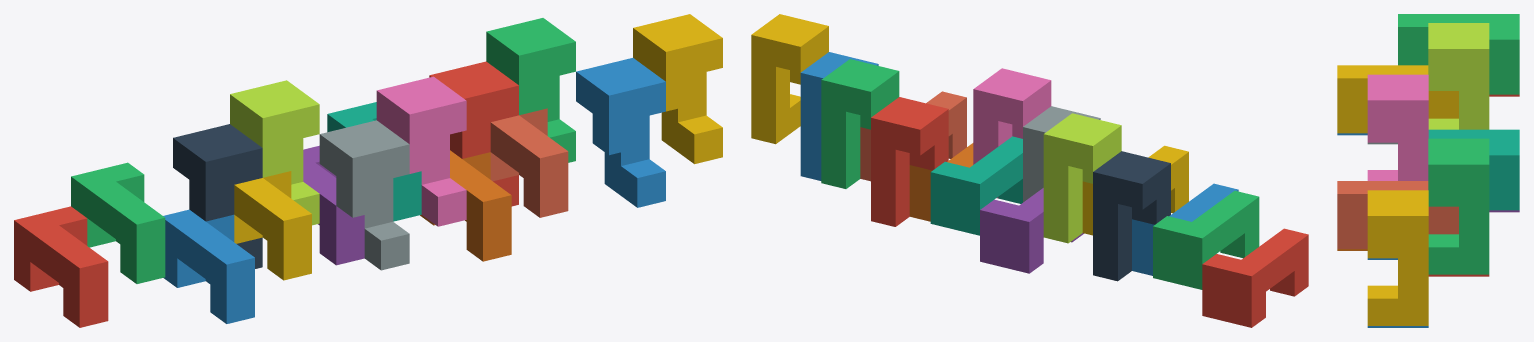
Rendered from tiling.obj.
3 views of the same model, side by side, from view 1: azimuth 30°, elevation 25°; view 2: azimuth 150°, elevation 25°; view 3: azimuth 270°, elevation 25° (orthographic). The views are drawn at different scales.
Parts seen in each view (by area): view 1: copy_2_domain_6, copy_2_domain_8, copy_2_domain_2, copy_2_domain_4, copy_1_domain_1, copy_1_domain_3, copy_1_domain_2, copy_2_domain_3, copy_2_domain_7, copy_2_domain_1, copy_1_domain_8, copy_1_domain_4 (+4 smaller); view 2: copy_2_domain_1, copy_2_domain_5, copy_1_domain_1, copy_2_domain_8, copy_2_domain_3, copy_2_domain_7, copy_1_domain_3, copy_1_domain_7, copy_2_domain_4, copy_1_domain_5, copy_2_domain_6, copy_1_domain_2 (+4 smaller); view 3: copy_2_domain_7, copy_2_domain_8, copy_2_domain_3, copy_2_domain_4, copy_1_domain_3, copy_1_domain_4, copy_1_domain_8, copy_1_domain_7, copy_2_domain_6, copy_2_domain_5.
Boxes of the visible parts, x1,y1,x2,y2 form: copy_2_domain_6: (576,58,665,207); copy_2_domain_8: (633,14,722,164); copy_2_domain_2: (319,120,409,270); copy_2_domain_4: (376,76,466,226); copy_1_domain_1: (14,206,108,327); copy_1_domain_3: (71,162,165,283); copy_1_domain_2: (163,209,254,323); copy_2_domain_3: (230,80,319,225); copy_2_domain_7: (486,18,575,162); copy_2_domain_1: (173,124,262,268); copy_1_domain_8: (490,108,568,217); copy_1_domain_4: (234,171,311,280); copy_2_domain_1: (1093,151,1170,281); copy_2_domain_5: (871,97,948,226); copy_1_domain_1: (1202,228,1308,327); copy_2_domain_8: (751,14,828,144); copy_2_domain_3: (1043,113,1121,243); copy_2_domain_7: (821,59,899,188); copy_1_domain_3: (1153,190,1259,289); copy_1_domain_7: (930,136,1022,235); copy_2_domain_4: (973,68,1051,198); copy_1_domain_5: (980,188,1083,273); copy_2_domain_6: (800,52,878,180); copy_1_domain_2: (1132,183,1238,275); copy_2_domain_7: (1428,138,1489,274); copy_2_domain_8: (1367,190,1428,325); copy_2_domain_3: (1428,23,1489,129); copy_2_domain_4: (1367,74,1428,180); copy_1_domain_3: (1398,14,1519,94); copy_1_domain_4: (1337,65,1458,133); copy_1_domain_8: (1337,181,1458,248); copy_1_domain_7: (1428,129,1519,210); copy_2_domain_6: (1367,258,1428,327); copy_2_domain_5: (1428,274,1489,276).
Size of the model in its own units: 22 by 5 by 6.
